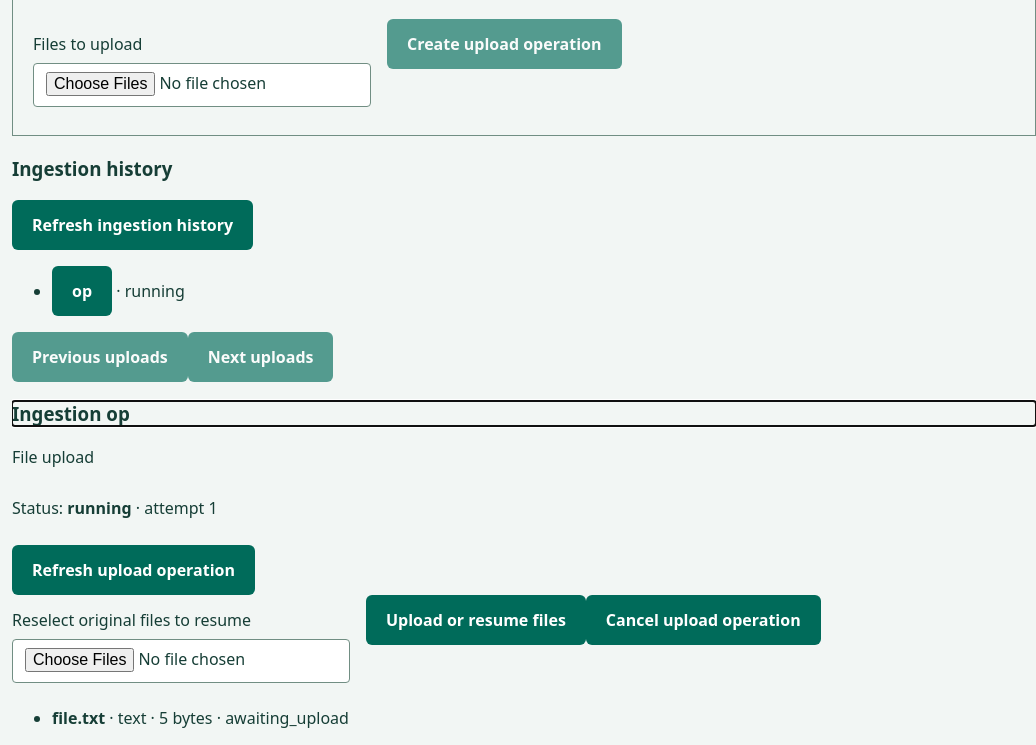
Scenario: hides operation details after current access is denied
(page scrolled)
Expected: the element named "Ingestion operation" is shown, [12,401,821,729]
Click the button "Refresh upload operation". click: (134, 570)
box: [12,545,255,595]
(page scrolled)
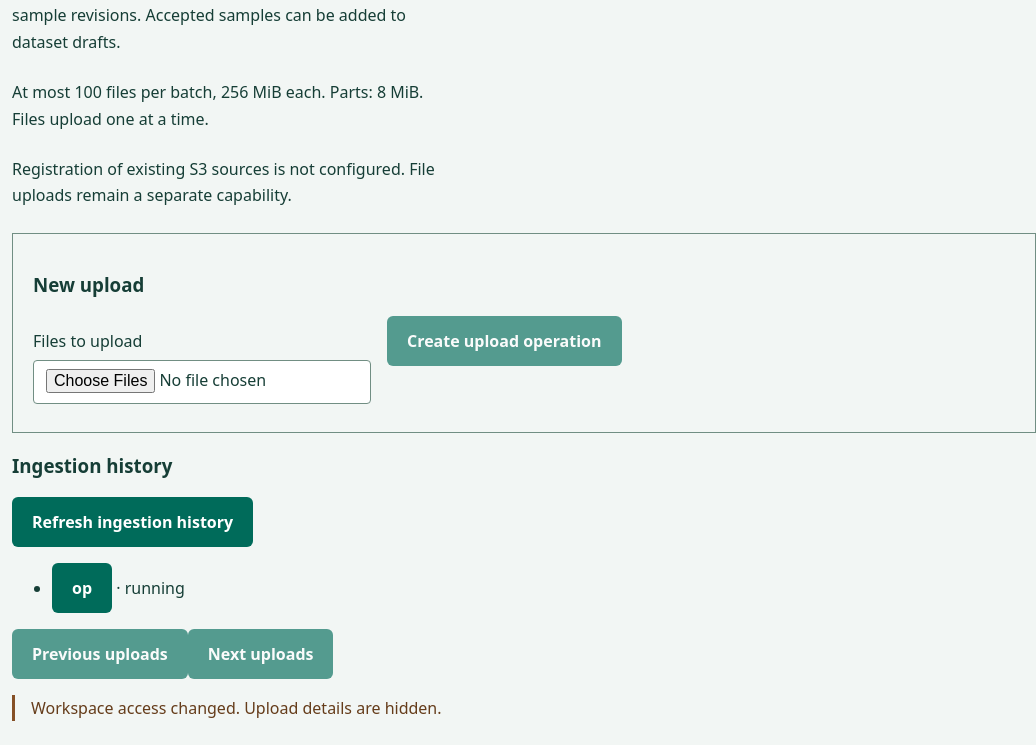
Result: the text "Workspace access changed. Upload details are hidden." is shown at [12,695,451,721]
Result: the text "file.txt" is gone
